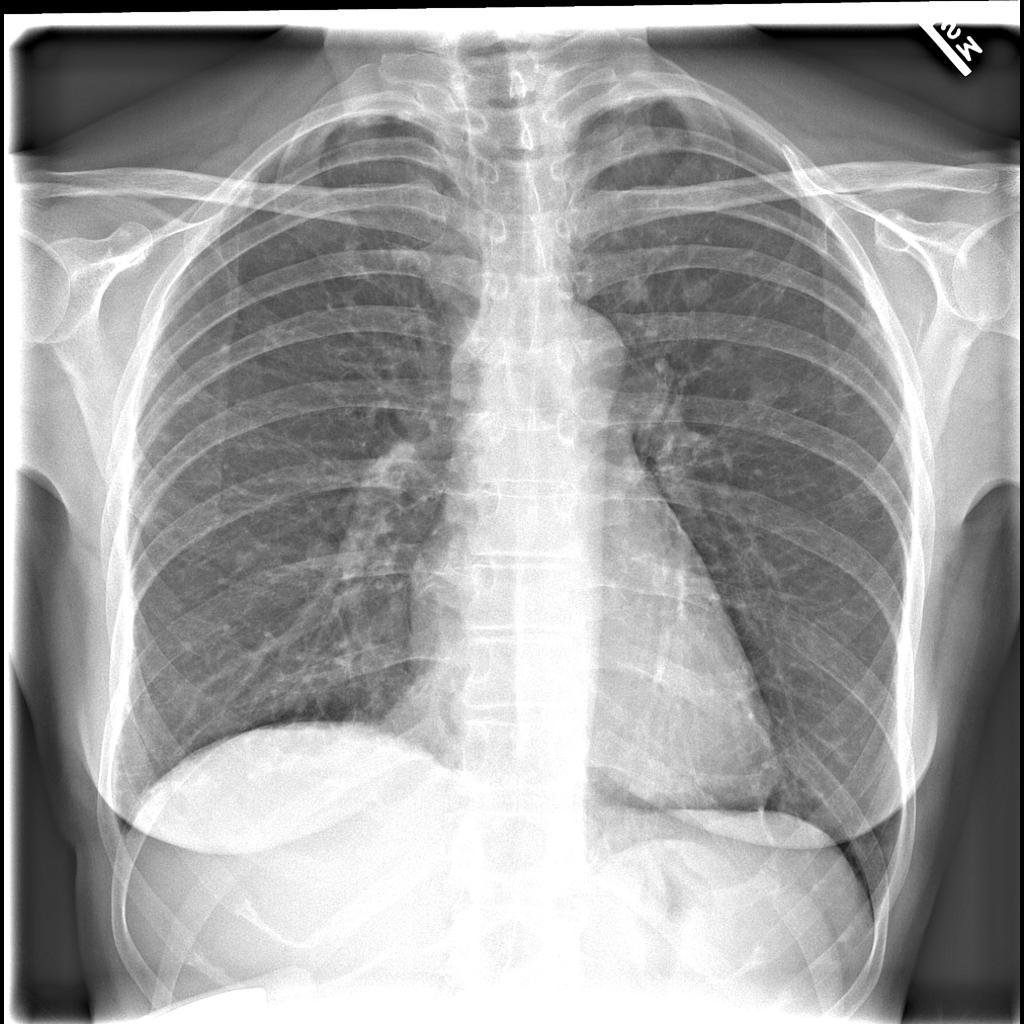Nodule: (756, 371, 799, 424), (681, 272, 716, 318), (303, 542, 338, 580)
